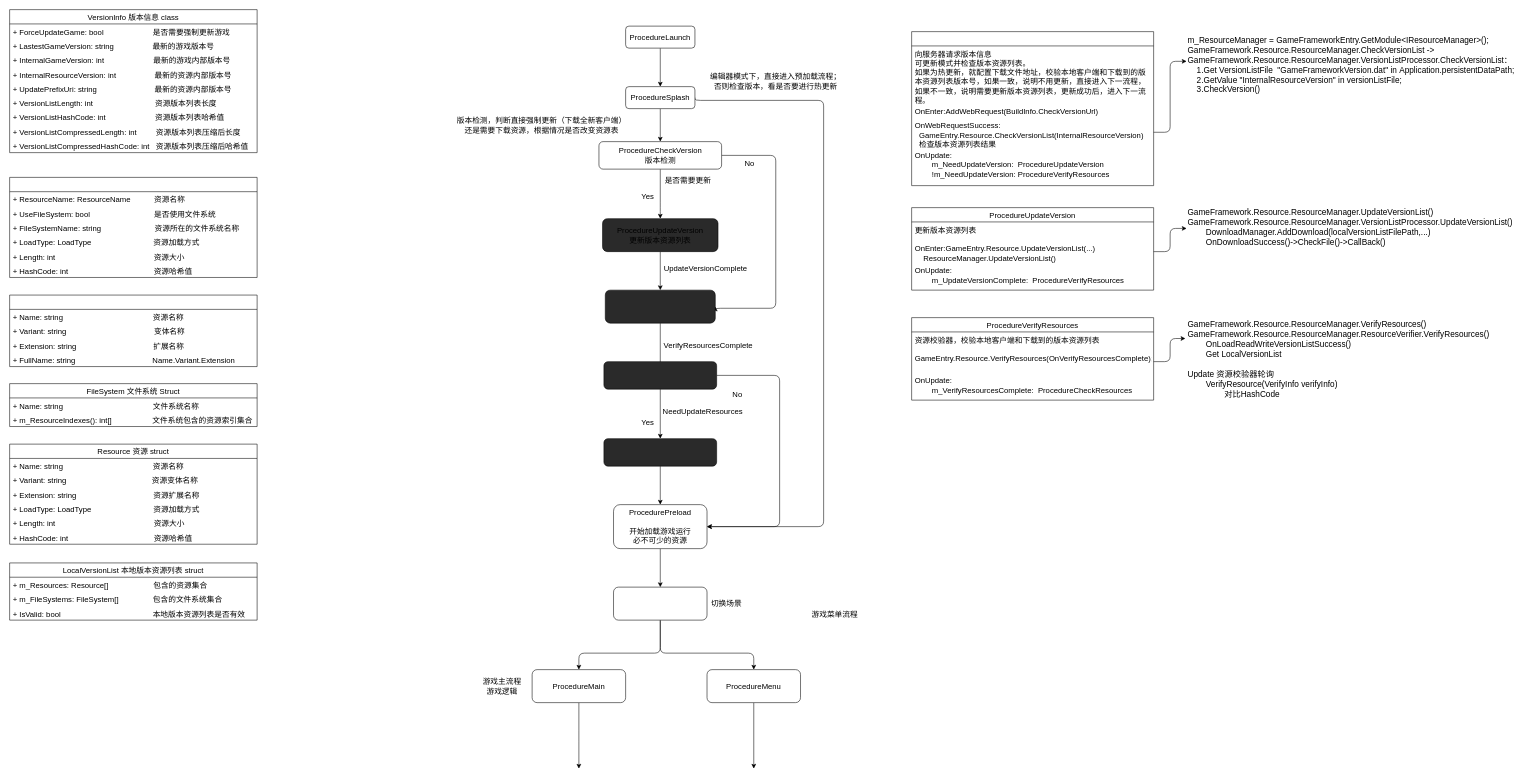
This 1532x783 diagram has some shape labels left out. The shapes that lost their labels are listed below. From the top down, each one's box as (x1, y1, x2, y2) in pixels, then its label:
(911, 31, 1154, 186): ProcedureCheckVersion
(9, 177, 257, 277): VerifyInfo 资源校验信息 struct
(605, 290, 715, 323): ProcedureVerifyResources 校验资源
(9, 295, 257, 367): ResourceName 资源名称 struct
(603, 361, 717, 389): ProcedureCheckResources 检查资源
(603, 438, 717, 466): ProcedureUpdateResources 更新资源
(613, 587, 707, 620): ProcedureChangeScene
